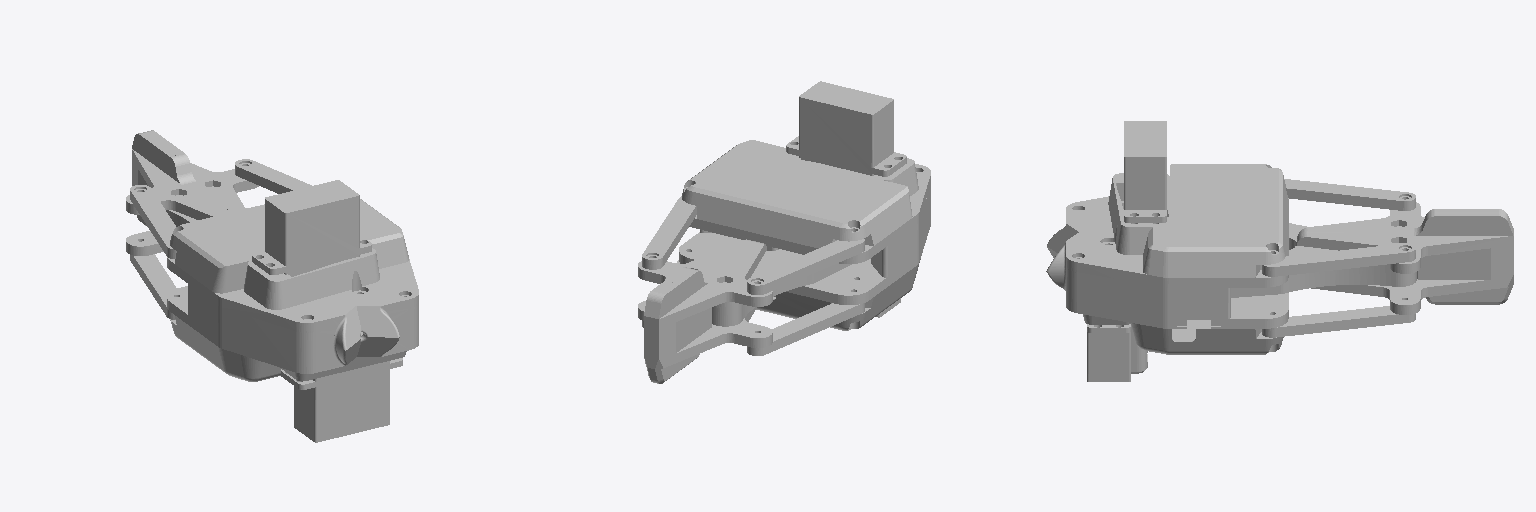
The model's file is gripper_closed.obj.
3 renders of one model, left to right at view 1: azimuth 30°, elevation 25°; view 2: azimuth 150°, elevation 25°; view 3: azimuth 270°, elevation 25°, orthographic.
Parts seen in each view (by area): view 1: Gripper_-_back_plate; view 2: Gripper_-_back_plate; view 3: Gripper_-_back_plate.
Part boxes in pixels (bbox=[...]): Gripper_-_back_plate: bbox=[126, 130, 418, 442]; Gripper_-_back_plate: bbox=[638, 81, 930, 383]; Gripper_-_back_plate: bbox=[1046, 121, 1513, 381].
Size of the model in its own units: 100 by 114 by 216.